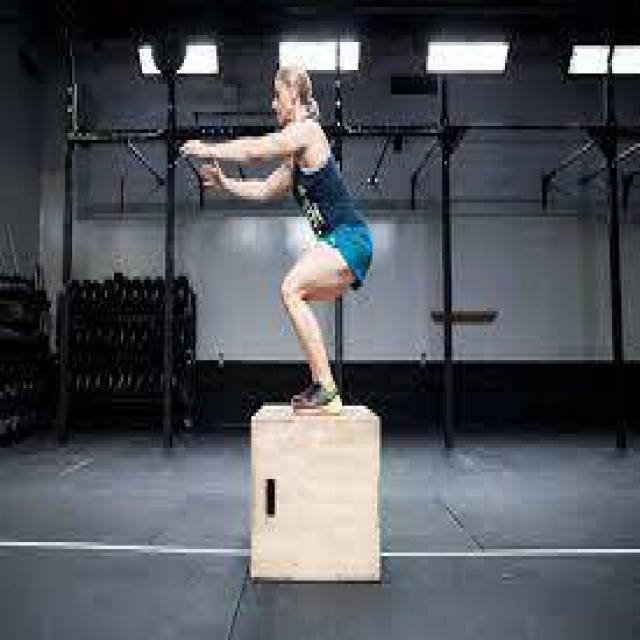Box: (240, 385, 393, 598)
